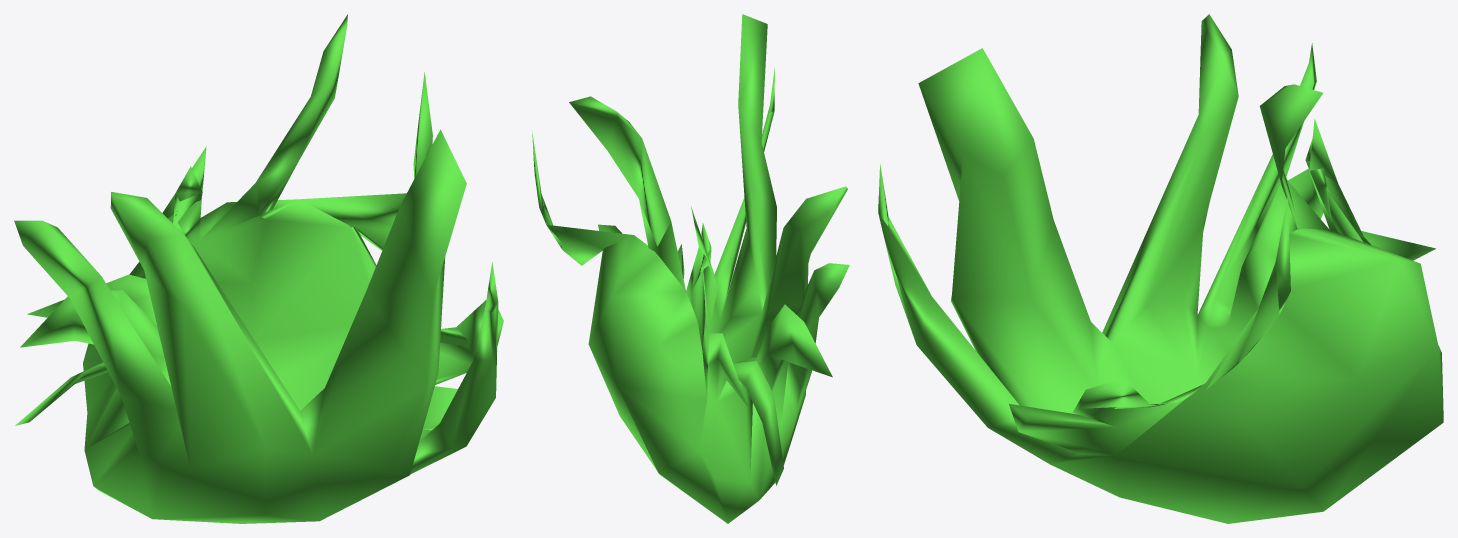
Rendered from grass-f.glb.
3 renders of one model, left to right at view 1: azimuth 30°, elevation 25°; view 2: azimuth 150°, elevation 25°; view 3: azimuth 270°, elevation 25°, orthographic. The views are drawn at different scales.
Visible parts, largest first — view 1: grass-f; view 2: grass-f; view 3: grass-f.
Part boxes in pixels (box(x1,y1,x2,y2)): grass-f: box(14, 14, 503, 523); grass-f: box(532, 14, 849, 523); grass-f: box(878, 14, 1443, 523).
Size of the model in its own units: 2.58 by 2.82 by 2.81.
